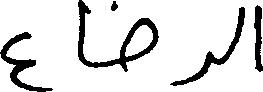X: (0, 27, 47, 91), (121, 13, 156, 76), (172, 46, 209, 90), (231, 2, 243, 58), (256, 0, 262, 91), (80, 0, 84, 91)
